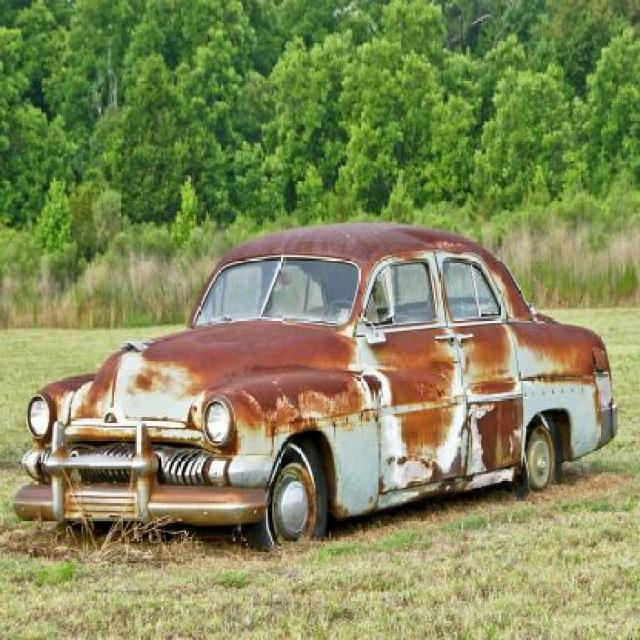corrosion: (28, 227, 617, 548)
